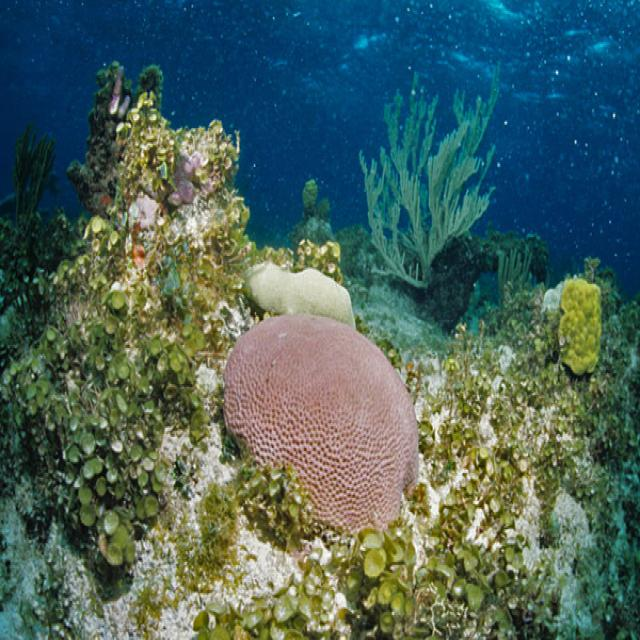Coral: (223, 314, 419, 536), (359, 59, 498, 291), (558, 278, 603, 376)
